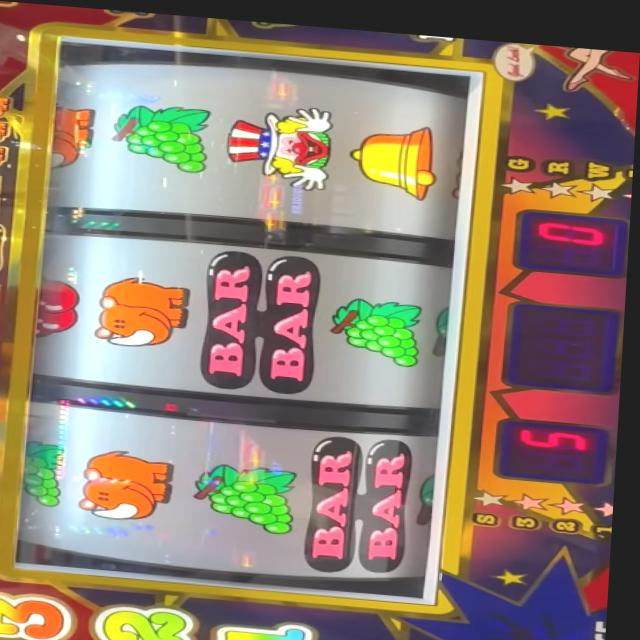bar: (201, 244, 325, 389), (309, 427, 424, 568), (0, 221, 14, 275)
bell: (346, 112, 443, 194)
cherry: (31, 272, 84, 340)
clown: (227, 95, 341, 186)
display: (14, 32, 489, 598)
elephant: (91, 273, 194, 347), (81, 444, 178, 520), (45, 101, 101, 170), (0, 143, 14, 168), (0, 120, 13, 142), (0, 94, 11, 116)
grape: (196, 455, 307, 530), (111, 97, 218, 171), (329, 288, 427, 360), (28, 438, 72, 506)
